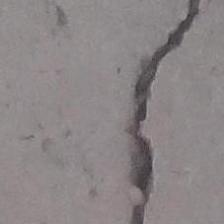Crack: (87, 0, 218, 224)
